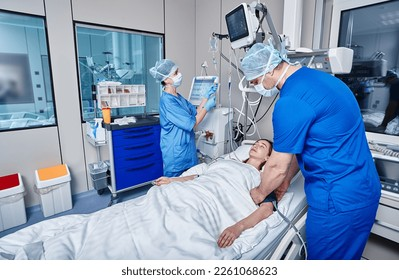doctor: (237, 46, 385, 253), (146, 56, 220, 168)
patient: (164, 127, 279, 257)
